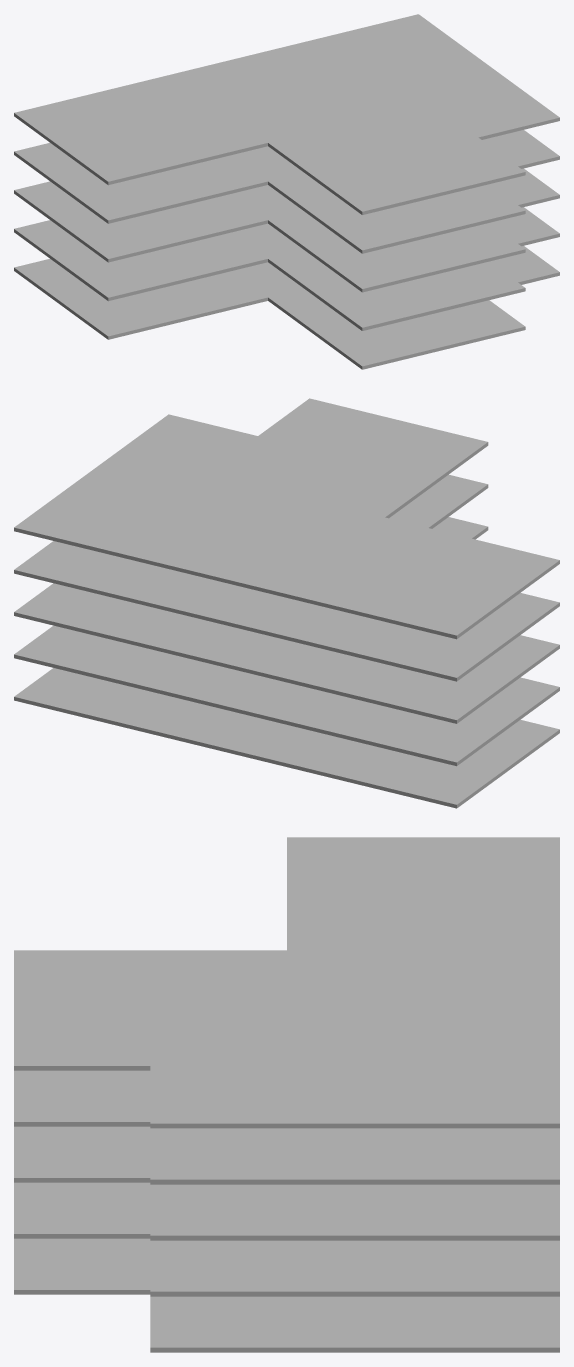
The model's file is floor01.glb.
3 renders of one model, top to bottom at view 1: azimuth 30°, elevation 25°; view 2: azimuth 150°, elevation 25°; view 3: azimuth 270°, elevation 25°, orthographic. The views are drawn at different scales.
Visible parts, largest first — view 1: floor5, floor4, floor2, floor1, floor3; view 2: floor5, floor4, floor3, floor2, floor1; view 3: floor5, floor1, floor2, floor3, floor4.
Boxes of the visible parts, <box> form: floor5: <box>14,14,559,214</box>; floor4: <box>14,130,559,253</box>; floor2: <box>14,207,559,330</box>; floor1: <box>14,246,559,369</box>; floor3: <box>14,168,559,292</box>; floor5: <box>14,398,559,639</box>; floor4: <box>14,474,559,681</box>; floor3: <box>14,517,559,723</box>; floor2: <box>14,625,559,766</box>; floor1: <box>14,668,559,808</box>; floor5: <box>14,837,559,1128</box>; floor1: <box>14,1238,559,1352</box>; floor2: <box>14,1182,559,1296</box>; floor3: <box>14,1126,559,1240</box>; floor4: <box>14,1070,559,1184</box>.
Bounding box in the file's own units: 124 × 46.27 × 100.
1 material, 1 textured.
